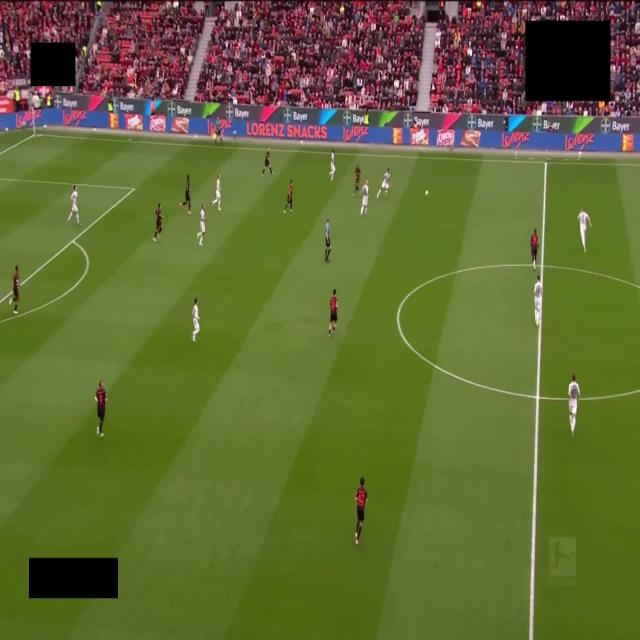ball: (425, 191, 428, 195)
player: (355, 477, 367, 545), (568, 375, 580, 434), (95, 381, 106, 437), (578, 210, 591, 252), (67, 185, 80, 226), (9, 265, 19, 314), (179, 175, 191, 214), (328, 289, 337, 337), (534, 276, 542, 326), (377, 168, 390, 198), (153, 203, 162, 241), (197, 204, 205, 246), (192, 298, 199, 342), (284, 180, 293, 212), (212, 174, 220, 210), (531, 229, 538, 270), (262, 147, 272, 175), (361, 181, 368, 216), (353, 165, 360, 196), (330, 150, 335, 181)
referee: (324, 218, 331, 261)
